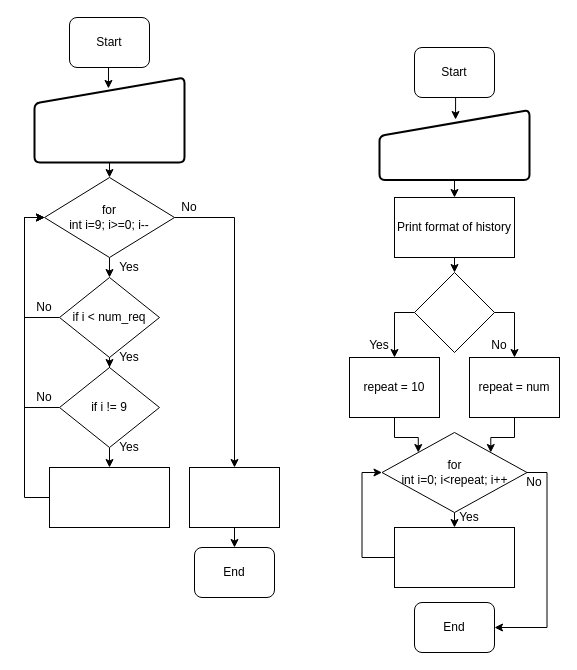
Image size: 577x670. Some labels were removed from this diagram. The centre of each missing label's shape, as x and y in pixels:
array[0] = input: the point at 234,497
array[i+1] = array[i]: the point at 109,497
num > 10: the point at 454,312
Print information of client: the point at 454,557
struct client_inf array[] int num_request: the point at 454,144
struct client_inf array[] struct client_inf input int num_request: the point at 109,119
